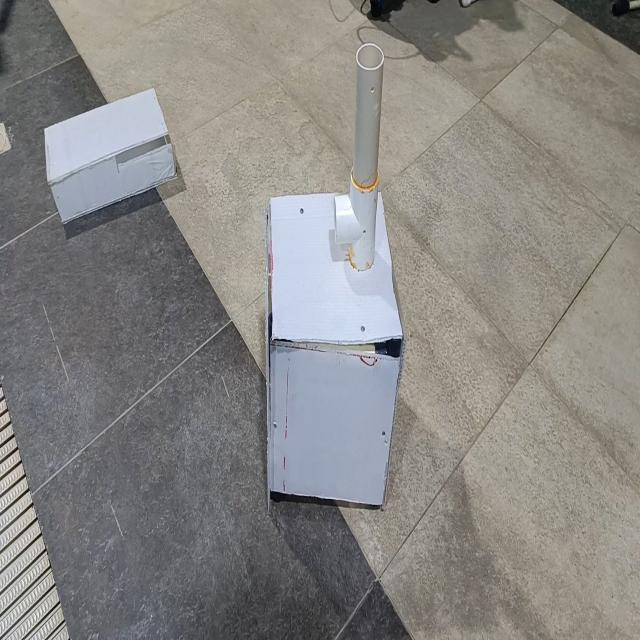Cube: (264, 194, 404, 517)
Cuboid: (43, 85, 177, 225)
